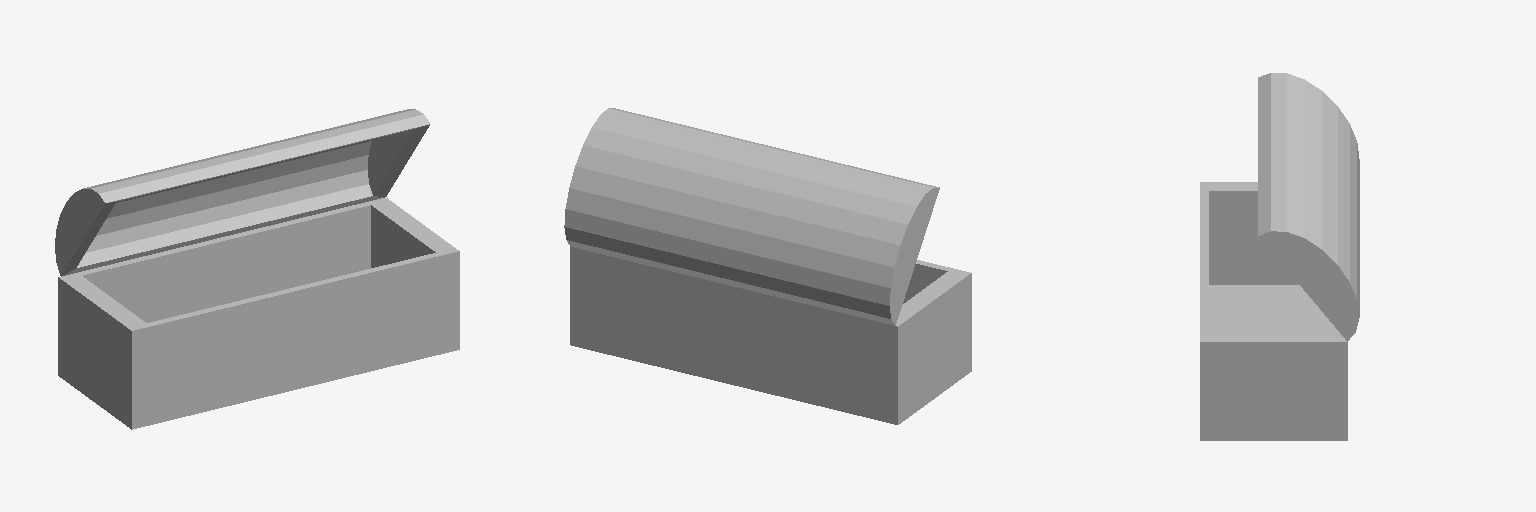
File: toy_chest.obj
The picture shows the model from 3 angles: view 1: azimuth 30°, elevation 25°; view 2: azimuth 150°, elevation 25°; view 3: azimuth 270°, elevation 25°; orthographic projection.
Visible parts, largest first — view 1: CHest Chest, Chest_lid CHest; view 2: Chest_lid CHest, CHest Chest; view 3: CHest Chest, Chest_lid CHest.
Boxes of the visible parts, box(x1,y1,x2,y2) form: CHest Chest: box(58, 197, 459, 429); Chest_lid CHest: box(55, 109, 429, 276); Chest_lid CHest: box(564, 108, 939, 325); CHest Chest: box(570, 247, 971, 424); CHest Chest: box(1200, 182, 1347, 440); Chest_lid CHest: box(1258, 73, 1359, 341).
Size of the model in its own units: 33.51 by 20.47 by 14.08.